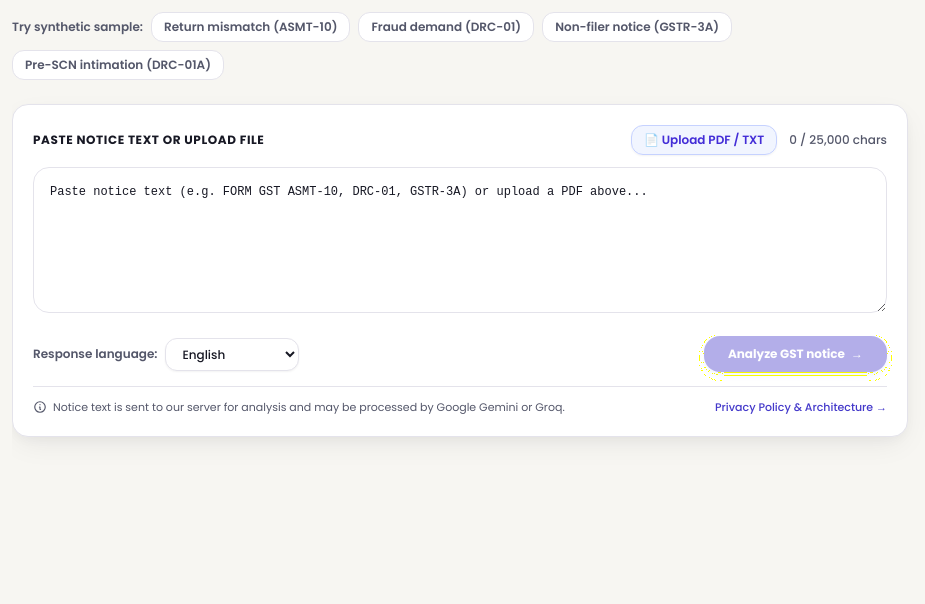
Test case: NoticeAnalyzer Component › highlights selected sample button border and toggles selection between samples
The image size is (925, 604).
Click the button with test id "sample-drc01-btn".
click(446, 27)  # box [358,12,534,42]
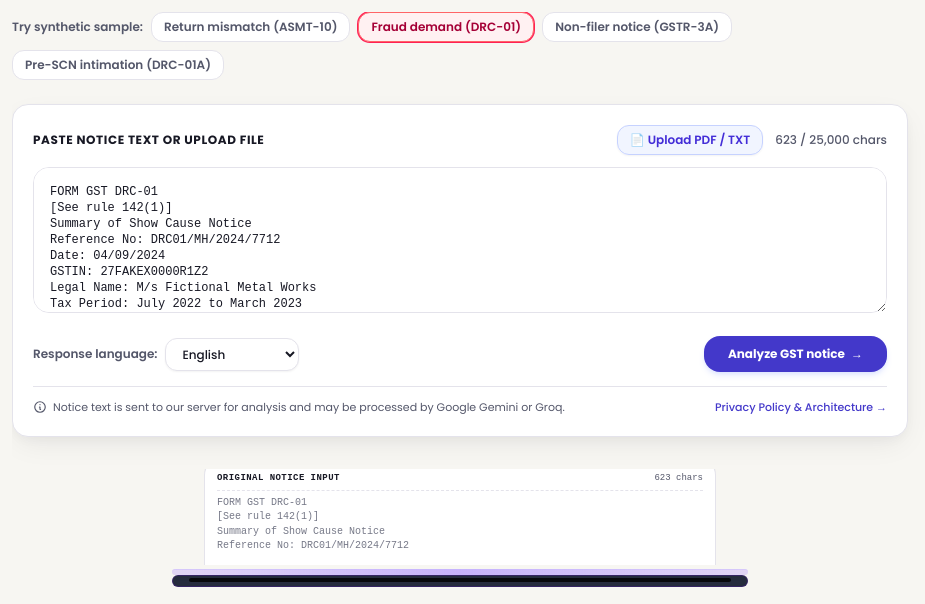
Result: the button with test id "sample-drc01-btn" is pressed at [358,12,534,42]
Result: the button with test id "sample-drc01-btn" has class "border-red-400" at [358,12,534,42]
Click the button with test id "sample-gstr3a-btn".
click(637, 27)  # box [542,12,732,42]
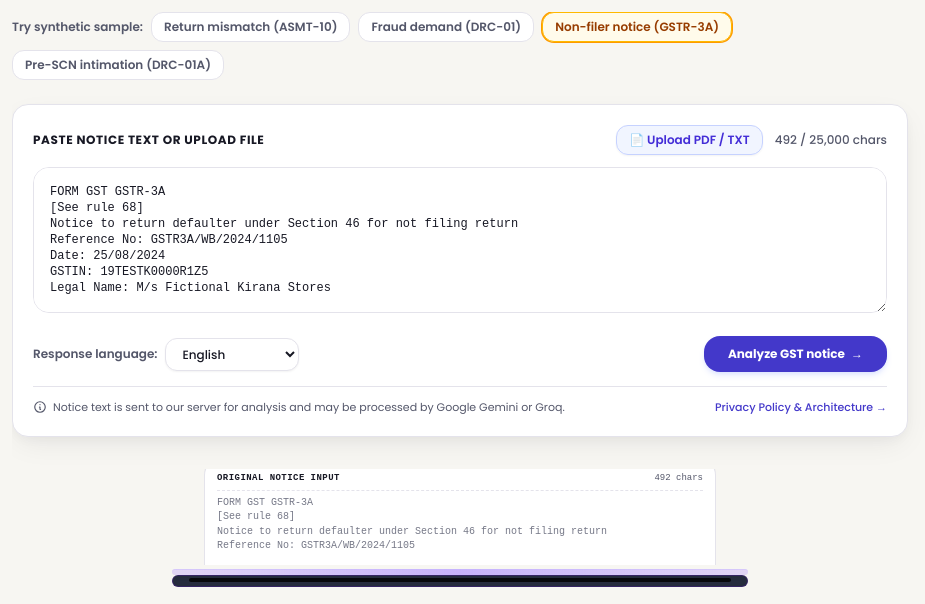
Result: the button with test id "sample-gstr3a-btn" is pressed at [542,12,732,42]
Result: the button with test id "sample-gstr3a-btn" has class "border-amber-400" at [542,12,732,42]
Result: the button with test id "sample-drc01-btn" is not pressed at [358,12,534,42]
